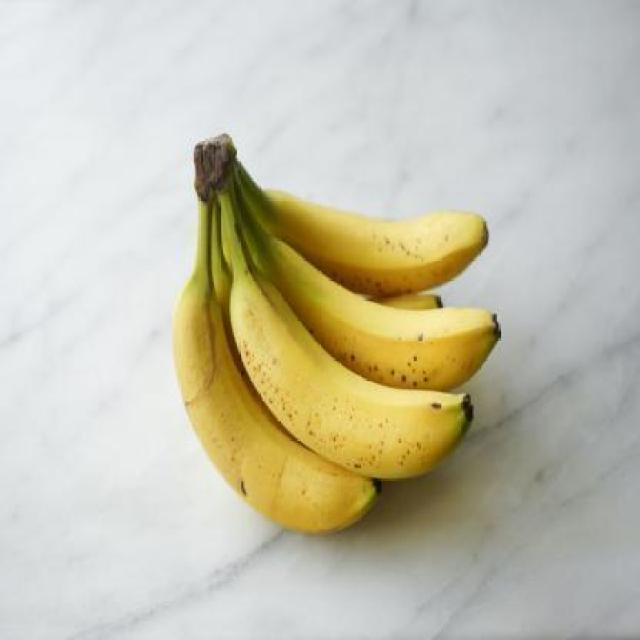banana: (174, 138, 382, 535), (226, 186, 474, 483), (251, 240, 502, 394), (266, 191, 489, 292)
